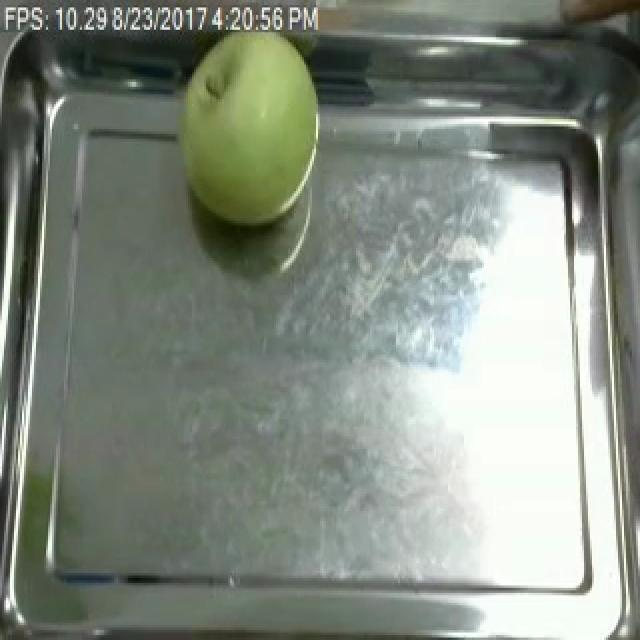50-_ripeness: (178, 32, 323, 230)
